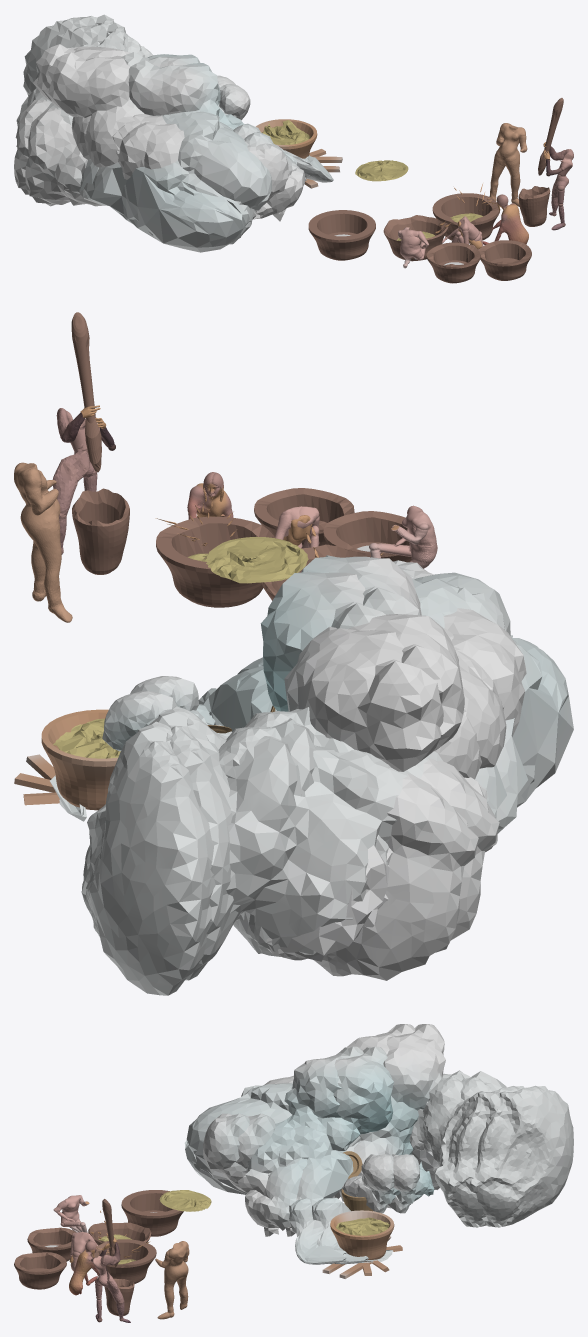
The picture shows the model from 3 angles, top to bottom: view 1: azimuth 30°, elevation 25°; view 2: azimuth 150°, elevation 25°; view 3: azimuth 270°, elevation 25°; orthographic projection. The views are drawn at different scales.
Bounding box in the file's own units: 12.64 × 5.02 × 16.11.
